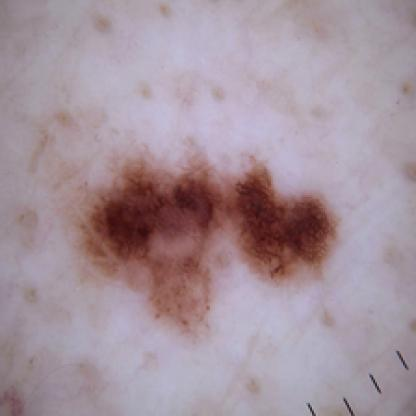benign: (80, 156, 332, 318)
